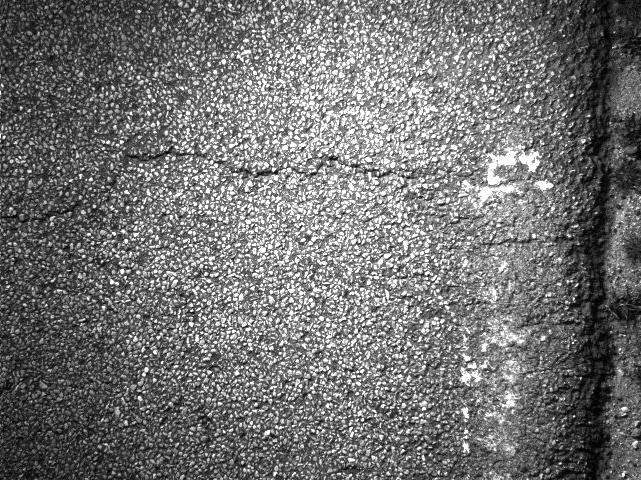crack: (14, 111, 566, 314)
